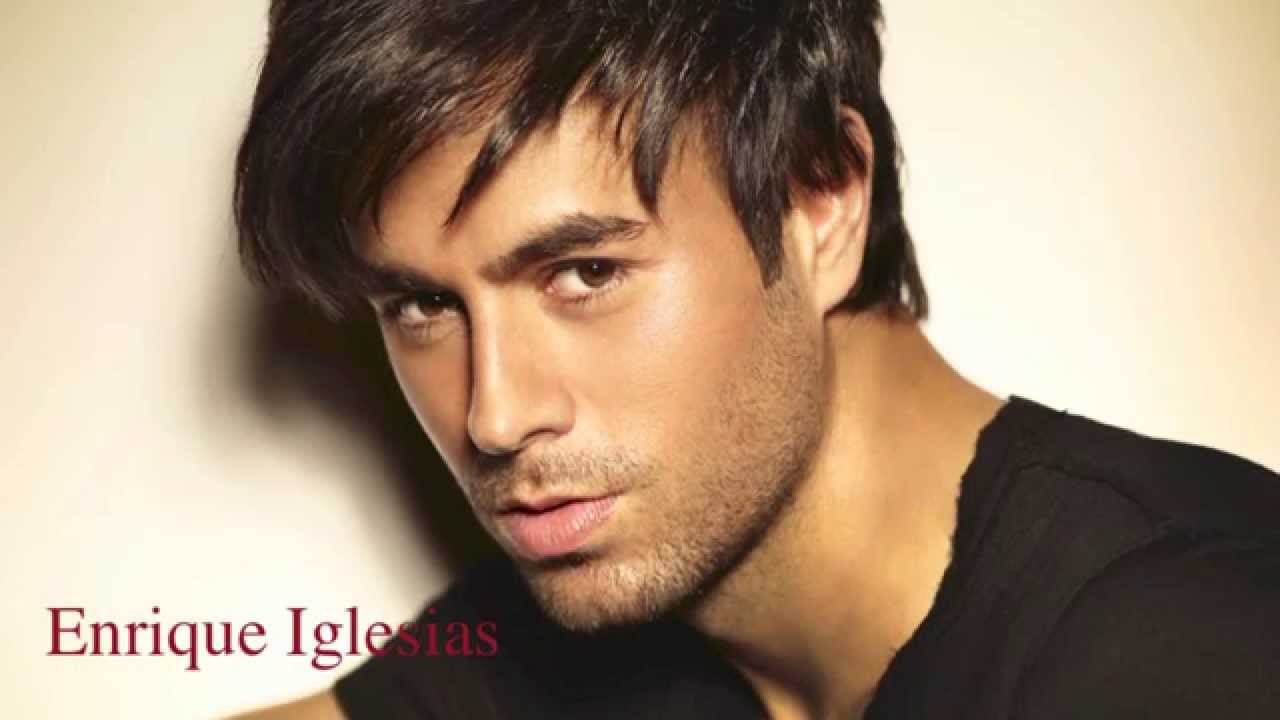noMask: (231, 9, 903, 610)
